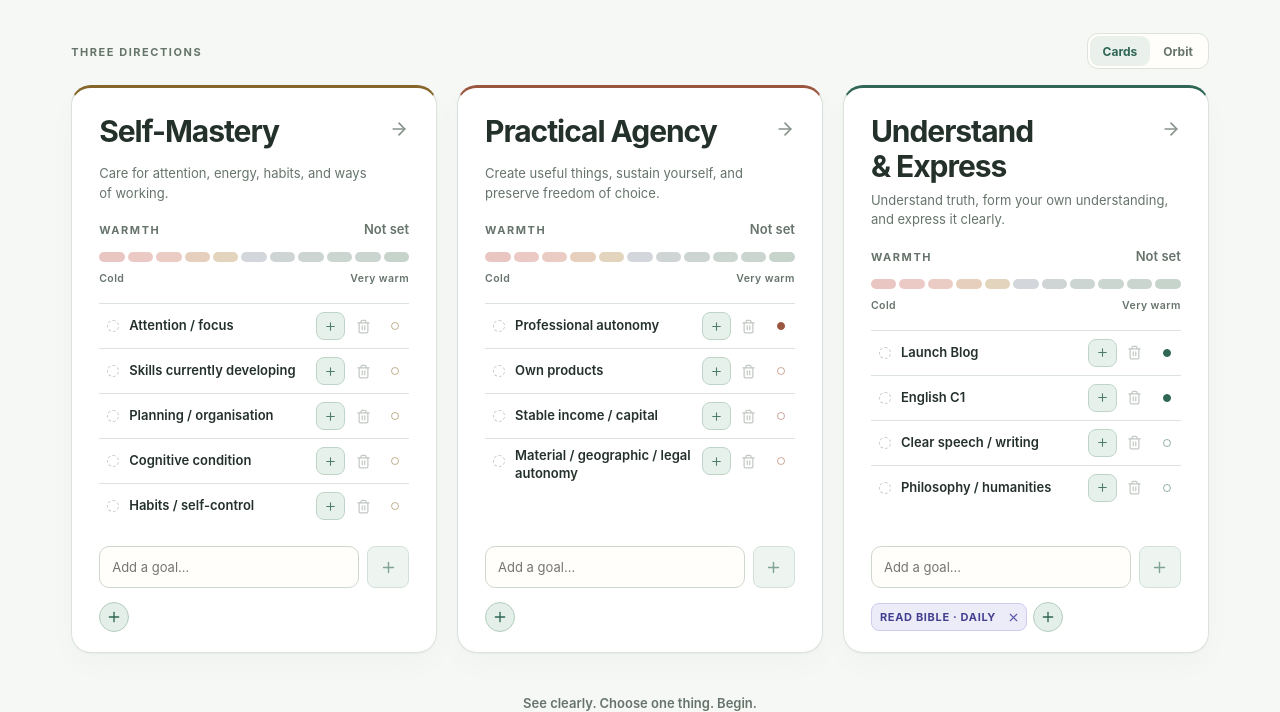
Test: Soul compass › deletes a goal only after confirmation and returns to its direction
(page scrolled)
Click the button "Launch Blog". click: (940, 352)
box: [871,331,1181,375]
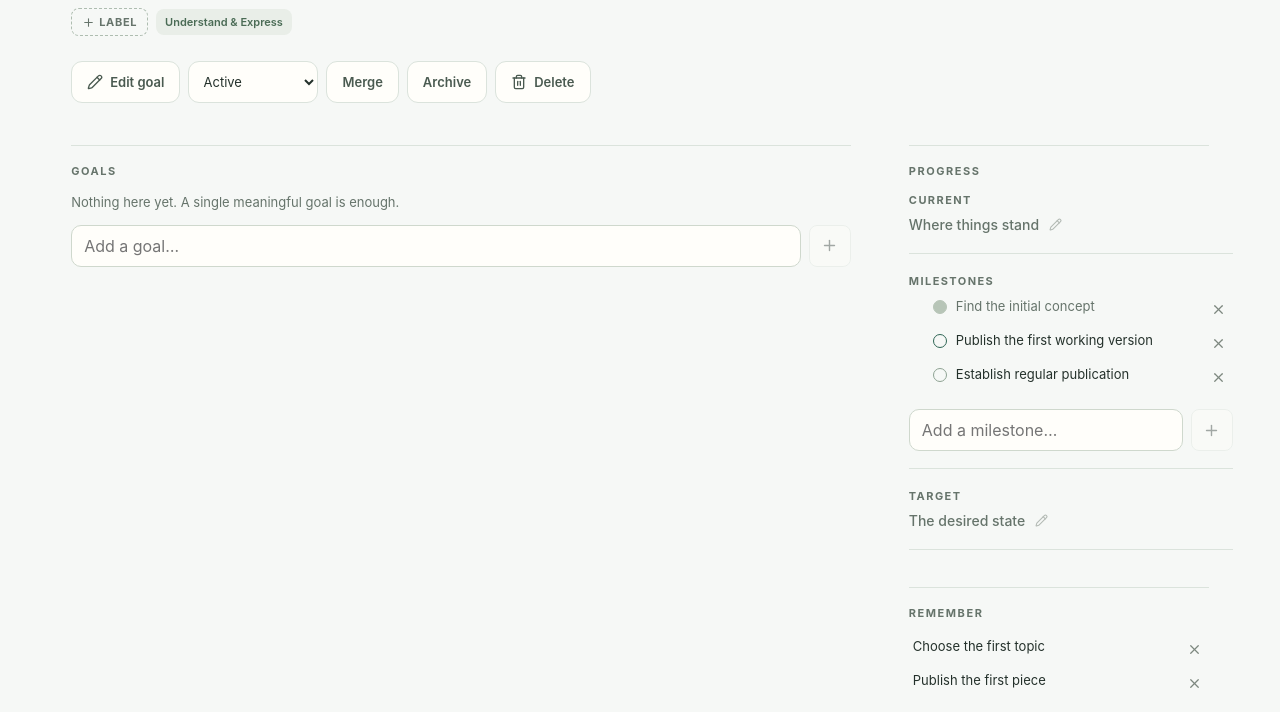
Click the button "Delete". click: (543, 82)
box: [495,61,590,103]
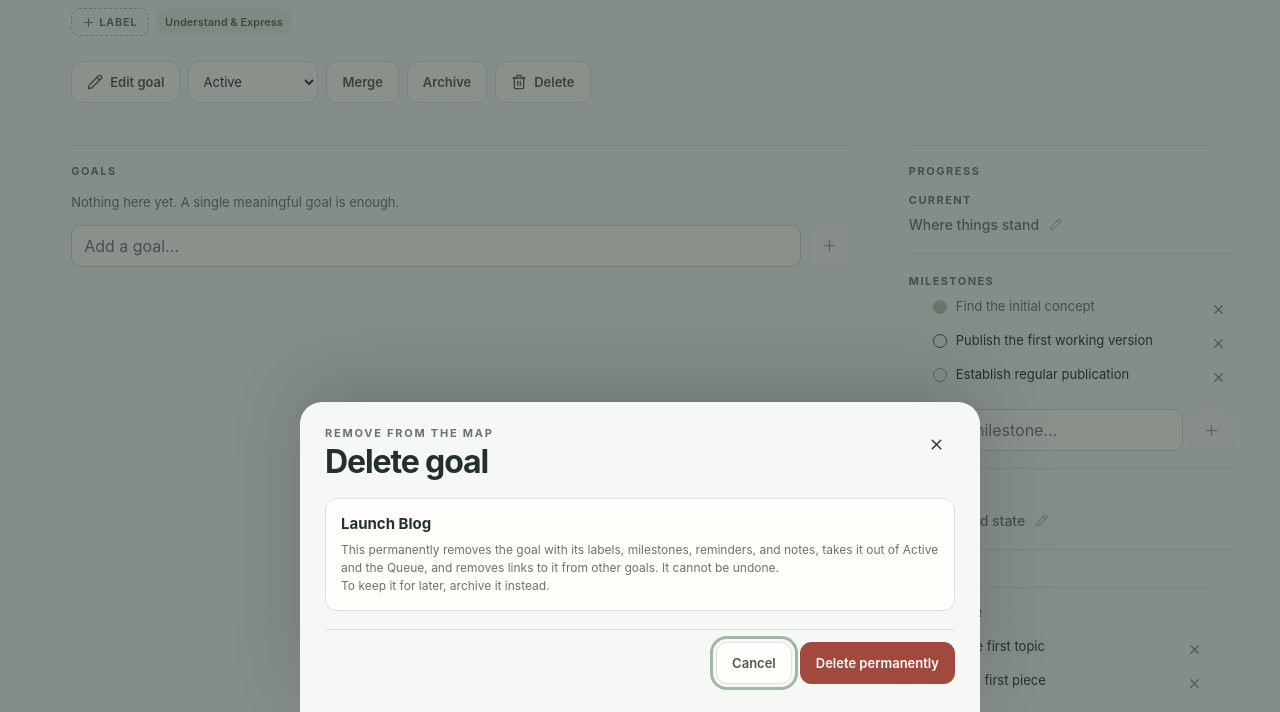
Click the button "Cancel". click: (754, 663)
box: [716,642,792,684]
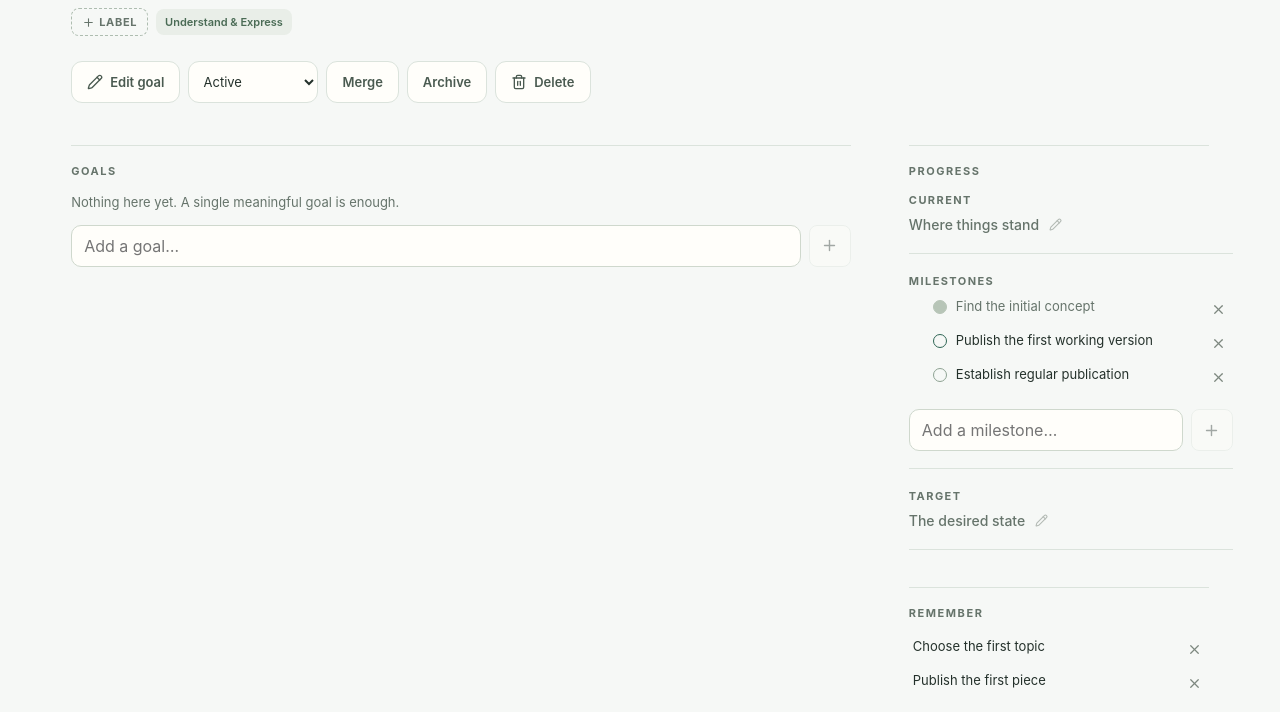
Click the button "Delete". click: (543, 82)
box: [495,61,590,103]
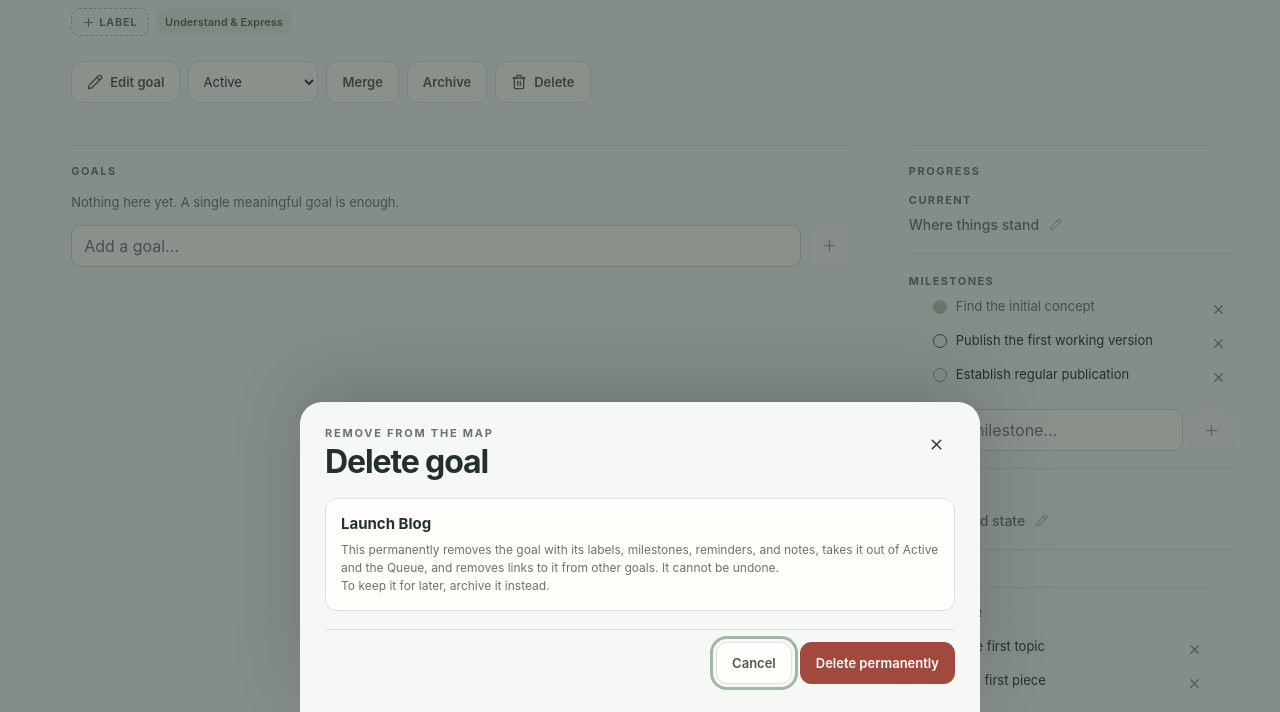
Click the button "Delete permanently". click: (877, 663)
box: [800,642,955,684]
(page scrolled)
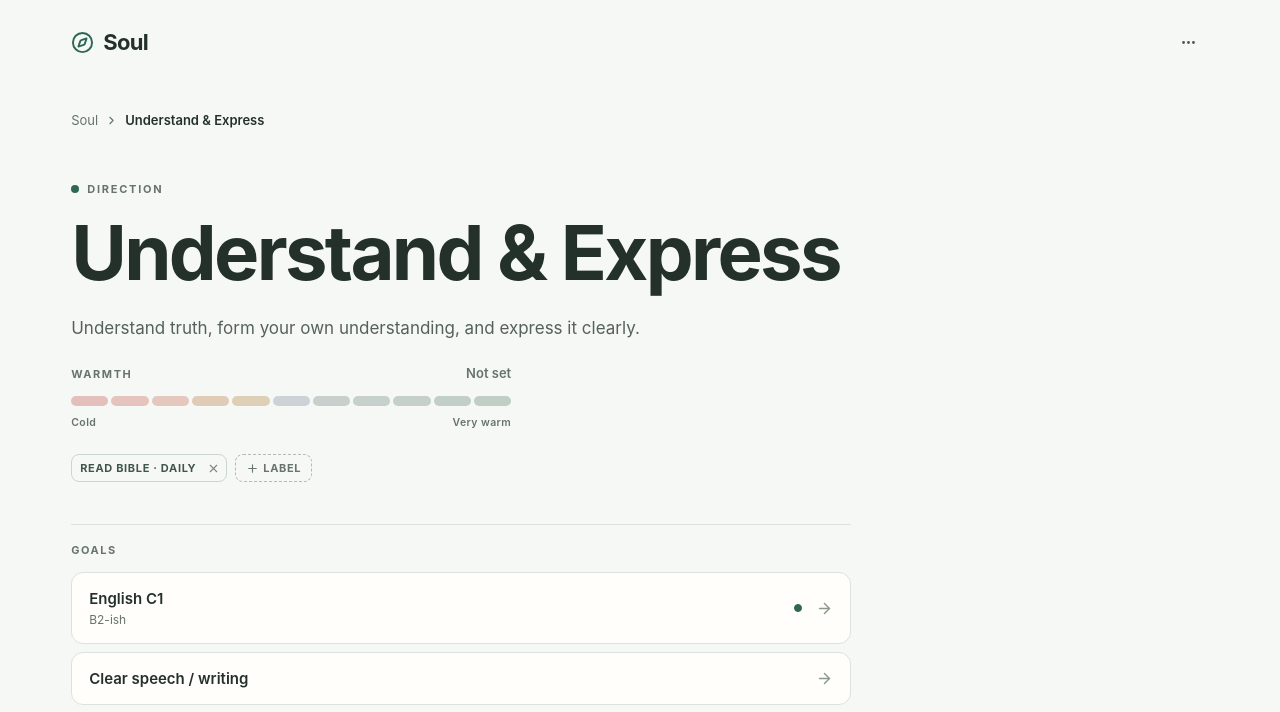
Now the heading "Understand & Express" is shown, box [71,206,840,298]
